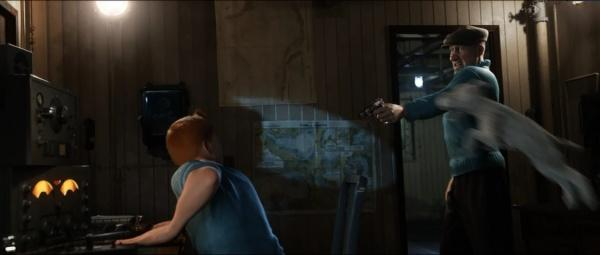Gun: (358, 97, 387, 120)
